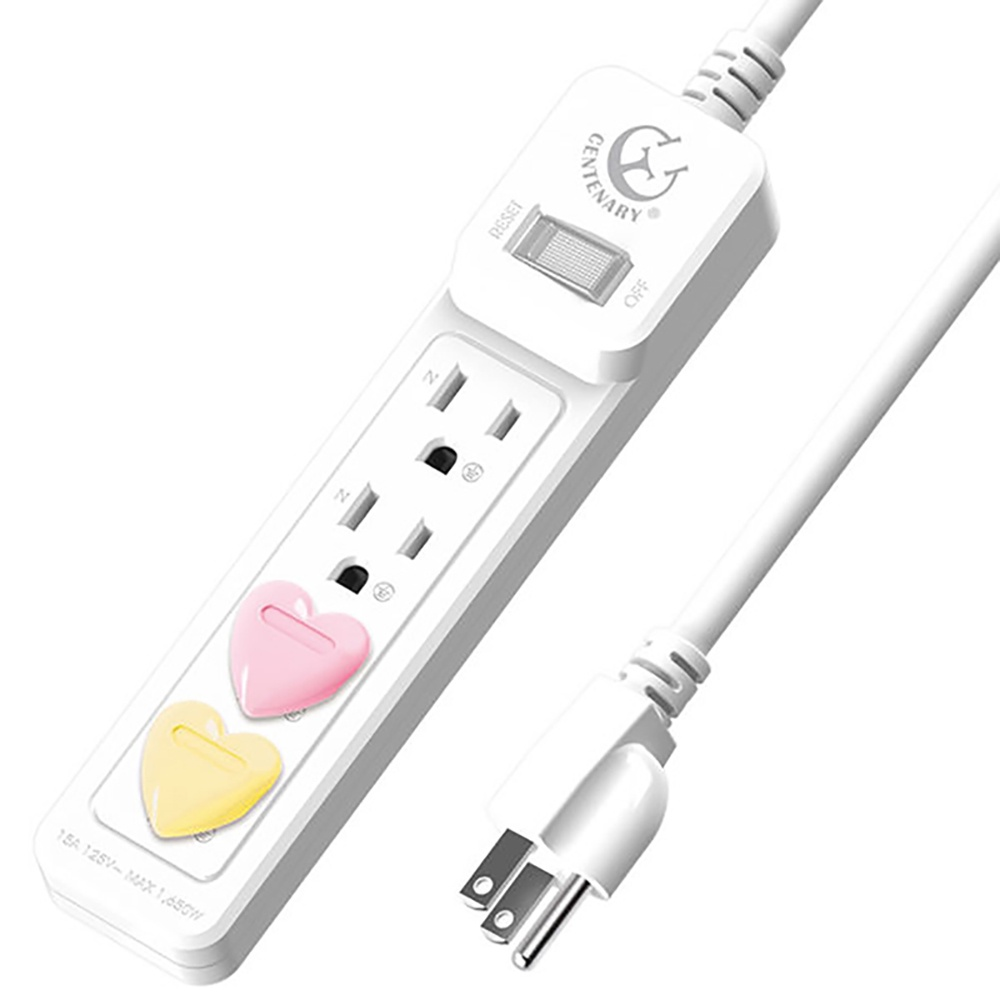socket: (37, 33, 789, 990)
